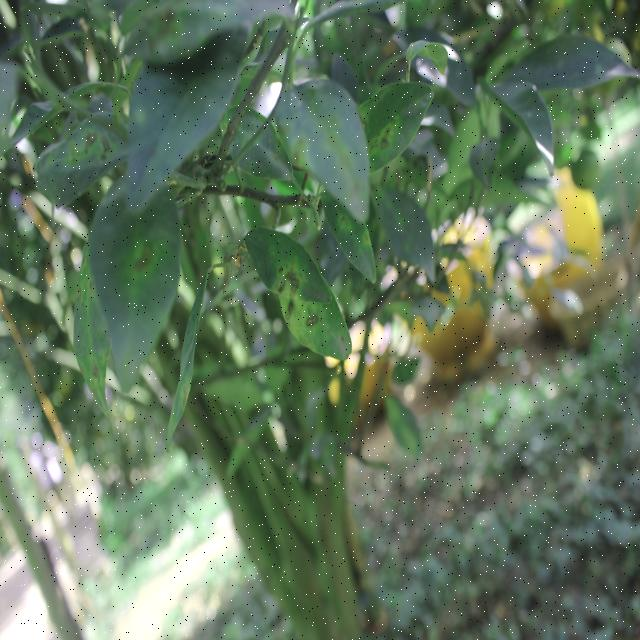canker: (279, 103, 363, 188), (272, 253, 346, 349), (118, 0, 196, 67), (75, 248, 108, 404), (124, 225, 170, 312), (62, 117, 126, 175), (375, 190, 420, 263), (361, 110, 408, 164), (334, 208, 374, 255)
